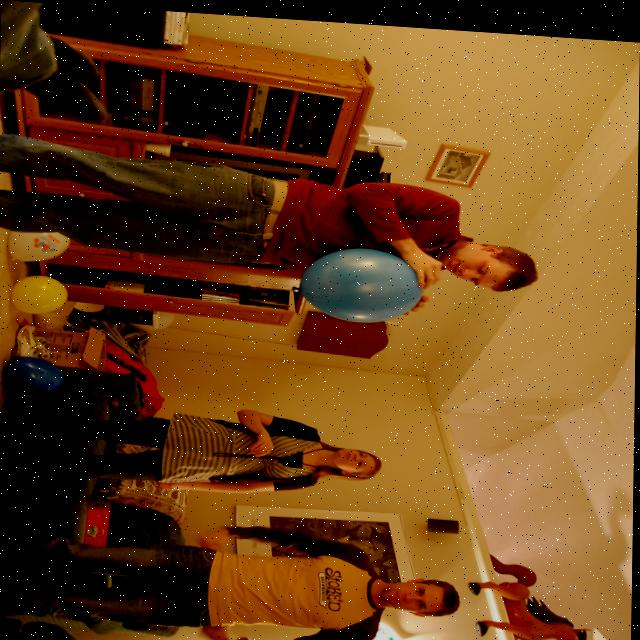balloon: (306, 243, 422, 319), (7, 228, 68, 265), (7, 358, 66, 396), (12, 275, 66, 314)
